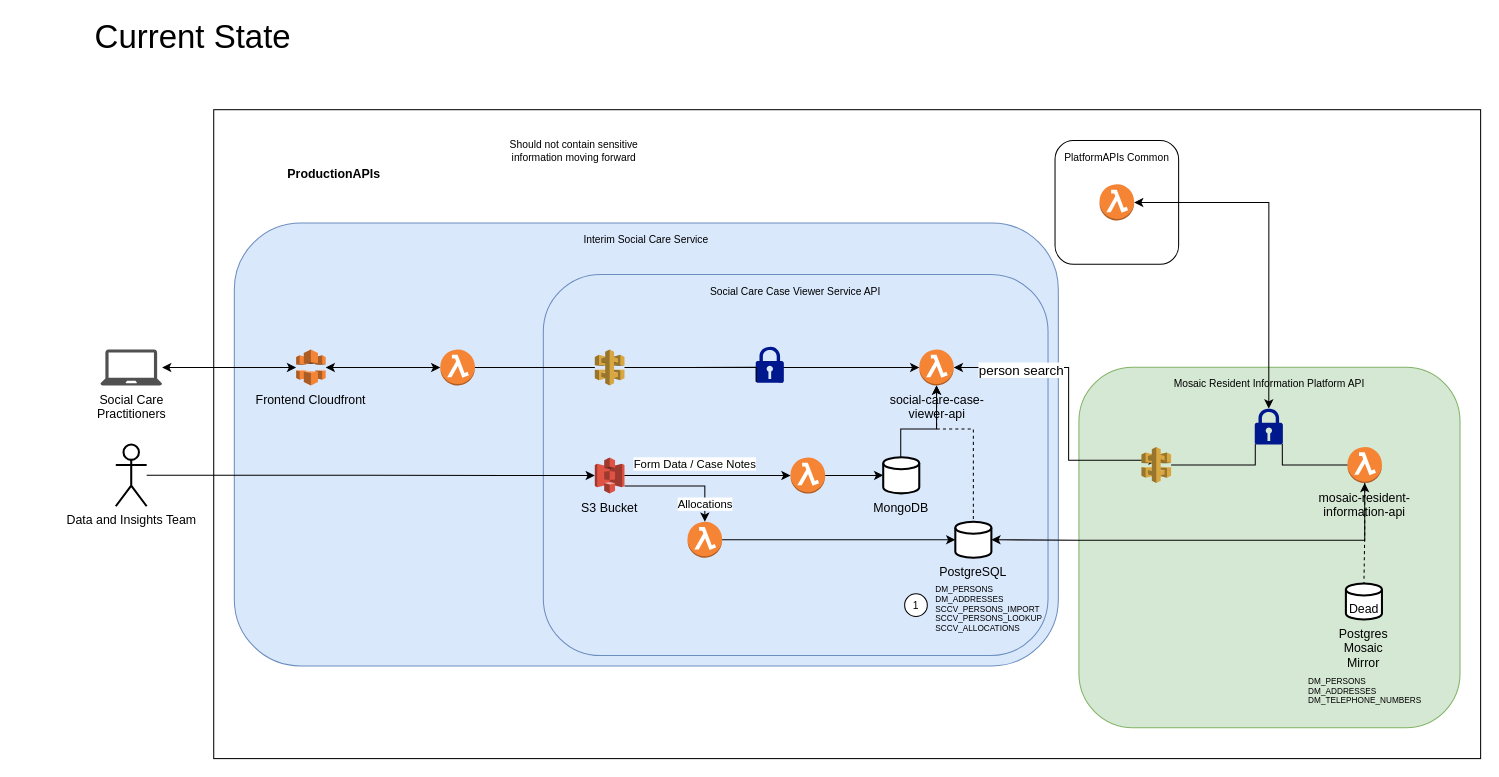
The diagram is 1499 pixels wide and 777 high, and some of its shapes have lost their labels. Here are the shapes that lost their labels. From the top down, the centre of each, then its label:
At point (1116, 201): "Lambda Authoriser".
At point (457, 367): "Social Care Frontend".
At point (609, 367): "SCCV API Gateway".
At point (769, 364): "API Key".
At point (807, 475): "MongoDBImport".
At point (1155, 464): "MRIA API Gateway".
At point (704, 539): "PostgreSQLImport".
